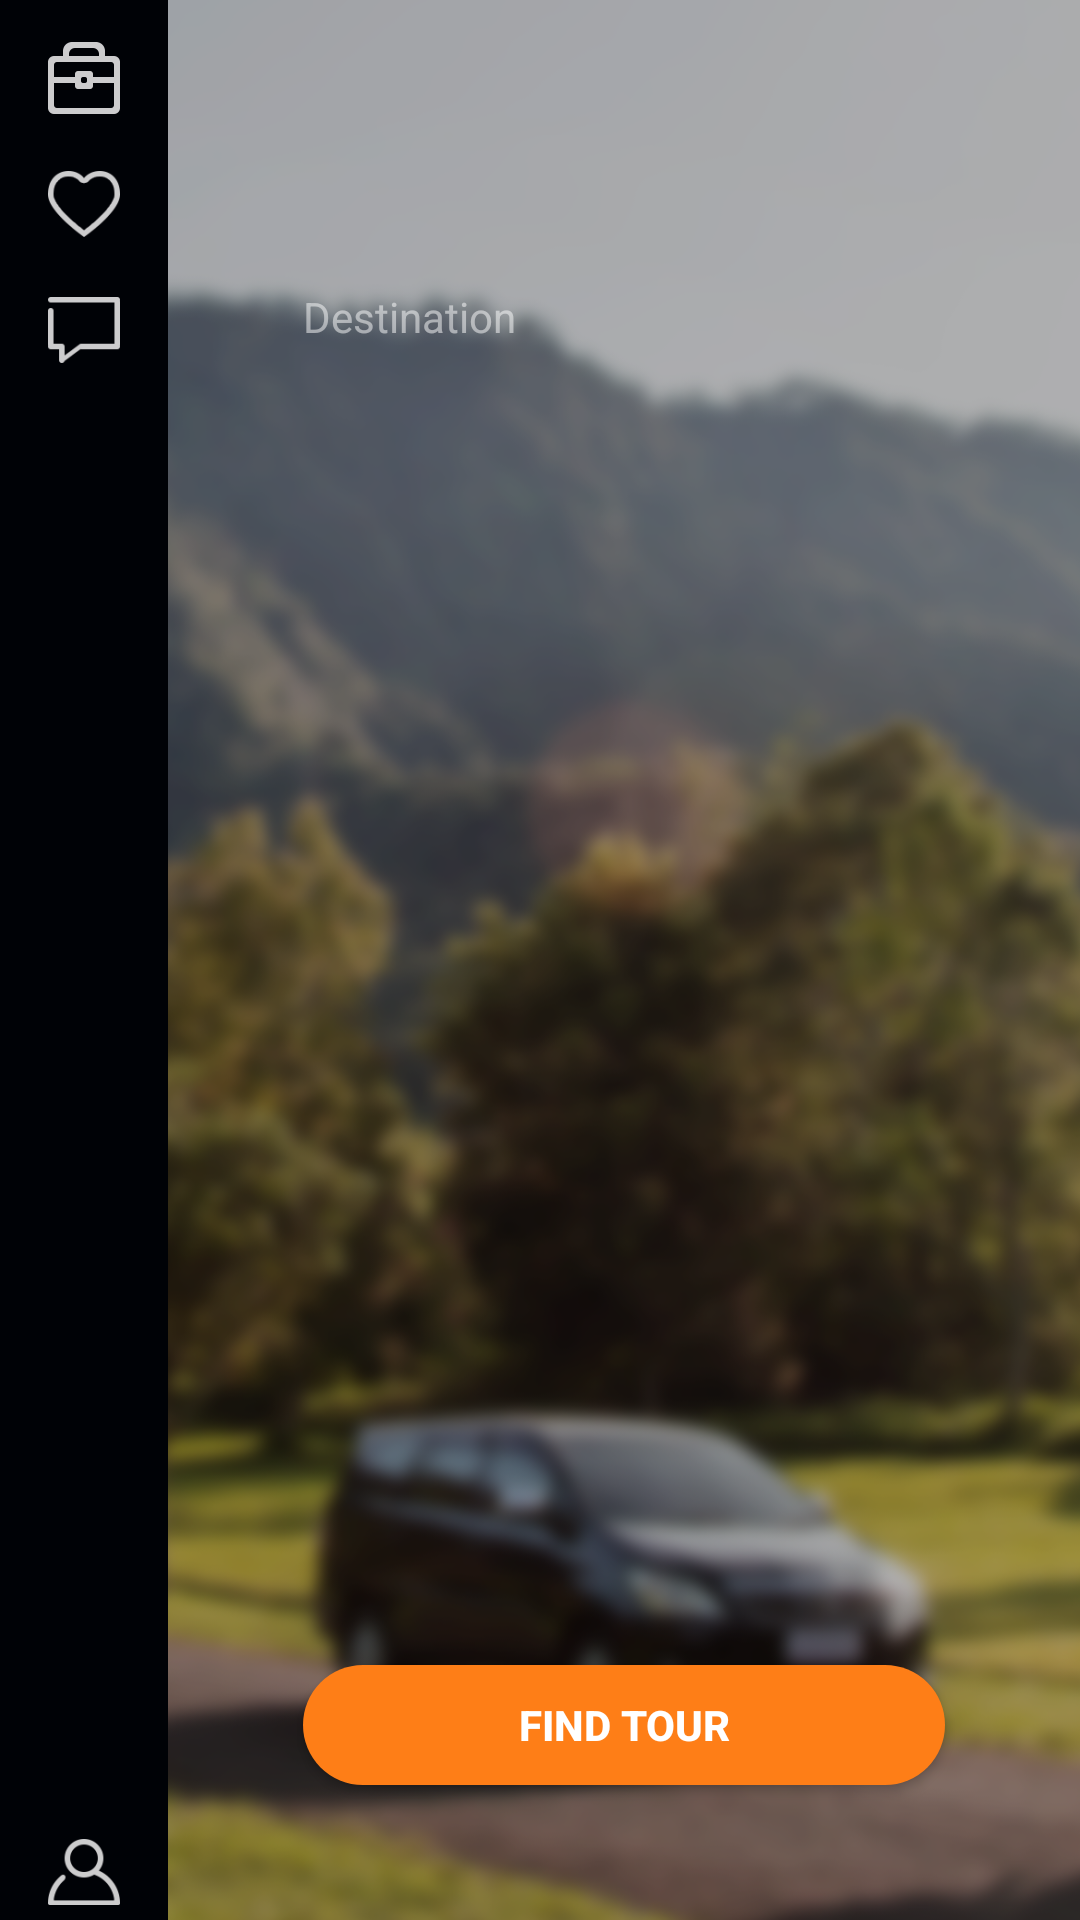

Named icons in this screenshot (1080*1920) and their centers, point (x, y):
account: point (84, 1872)
fav: point (84, 204)
message: point (84, 330)
trip: point (84, 78)
